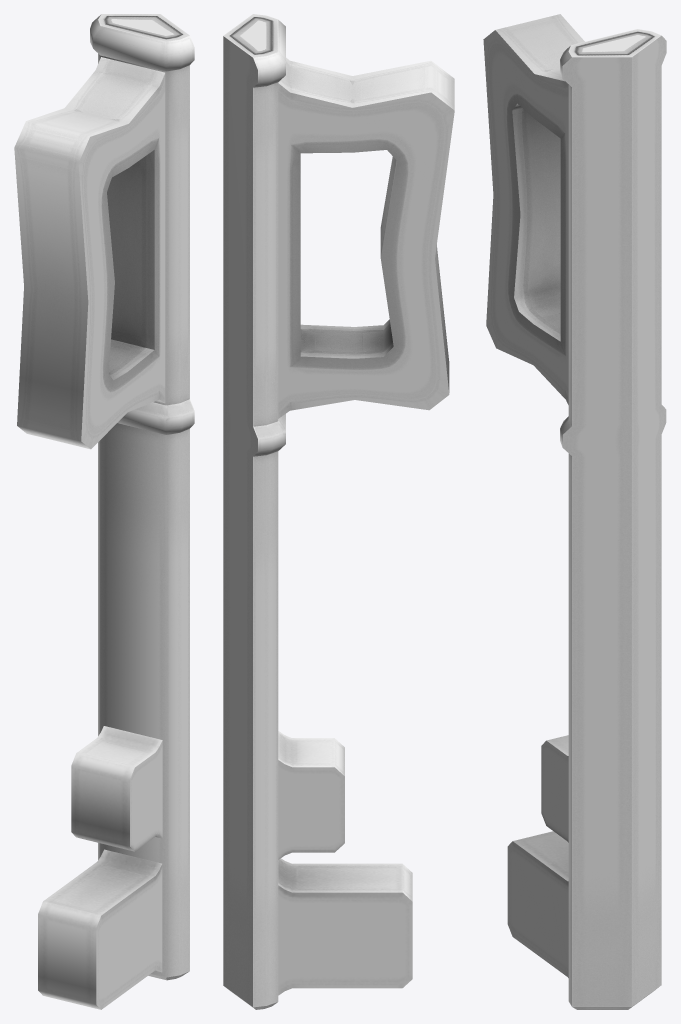
Rendered from 225_the_Key_of_Truth.fbx.
3 renders of one model, left to right at view 1: azimuth 30°, elevation 25°; view 2: azimuth 150°, elevation 25°; view 3: azimuth 270°, elevation 25°, orthographic.
Visible parts, largest first — view 1: 225_the_Key_of_Truth; view 2: 225_the_Key_of_Truth; view 3: 225_the_Key_of_Truth.
Part boxes in pixels (<box>): 225_the_Key_of_Truth: <box>14,14,194,1009</box>; 225_the_Key_of_Truth: <box>223,14,454,1009</box>; 225_the_Key_of_Truth: <box>483,14,666,1009</box>.
Size of the model in its own units: 6.25 by 30.01 by 5.21.
